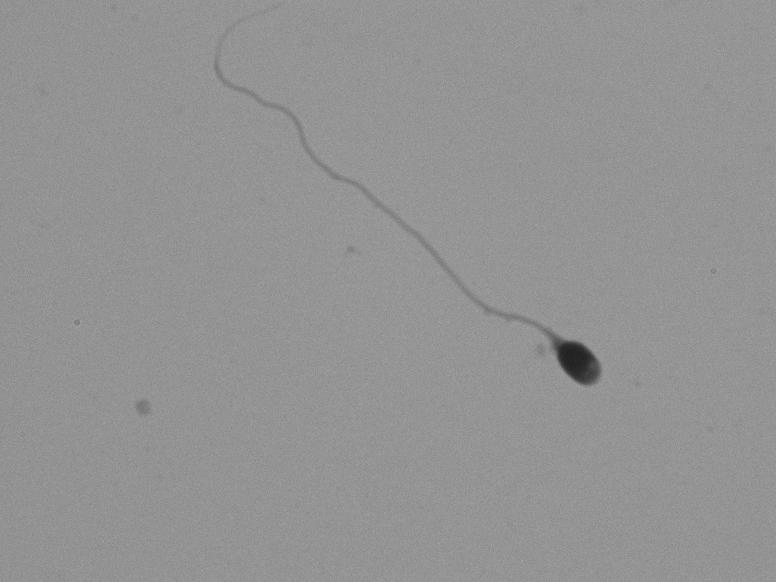Normal: (176, 25, 689, 440)
